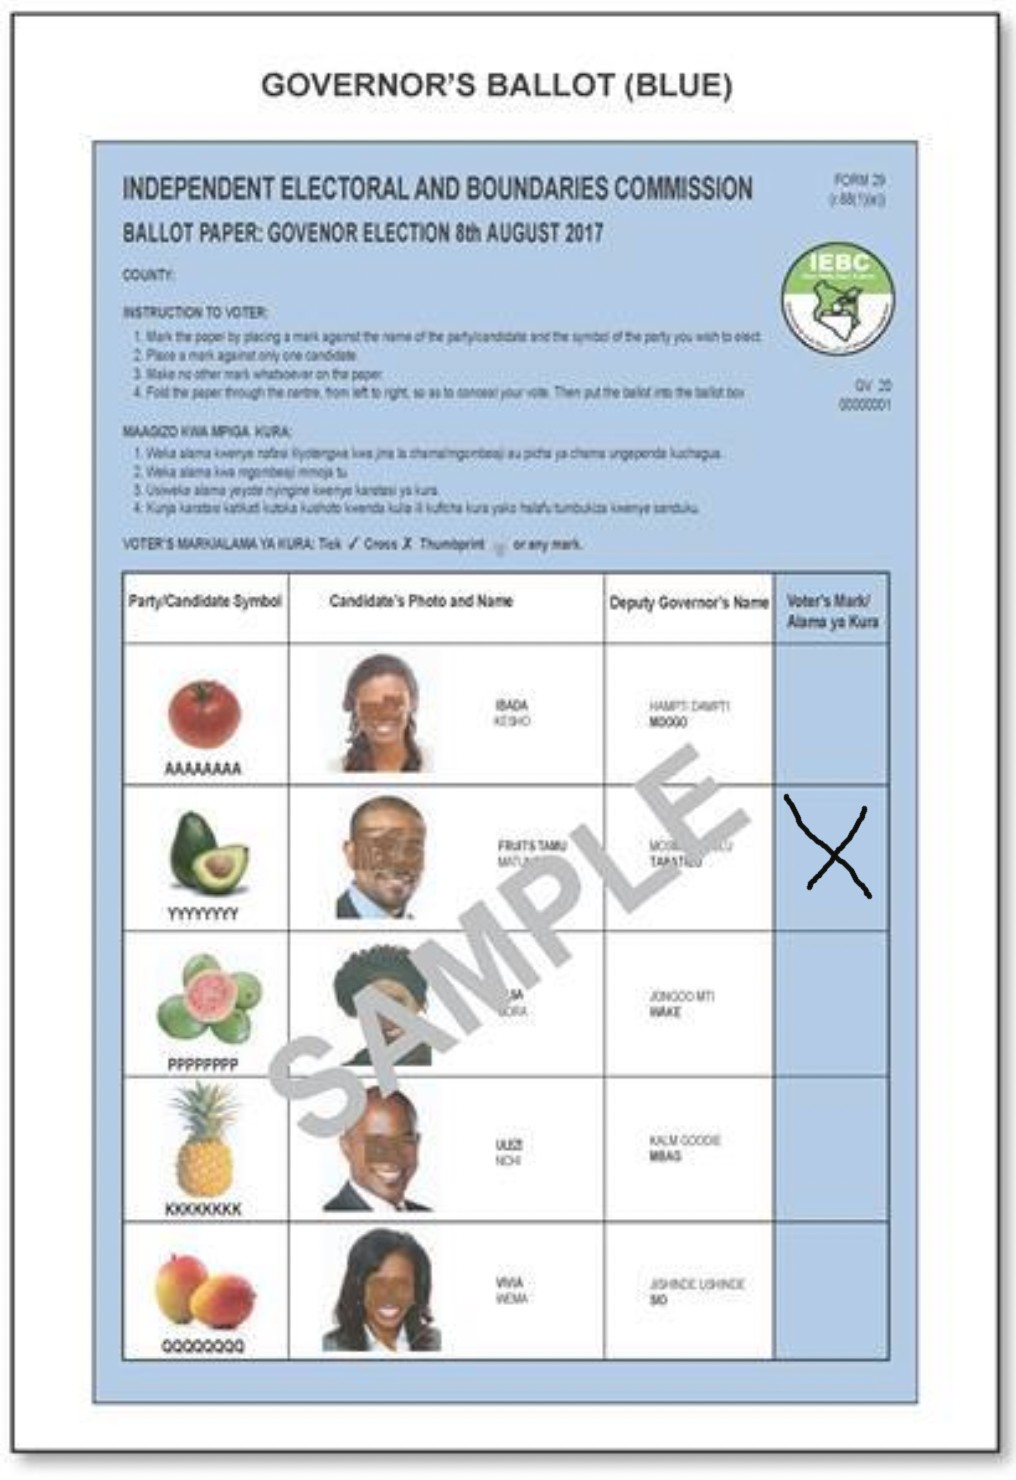mark: (779, 788, 894, 913)
